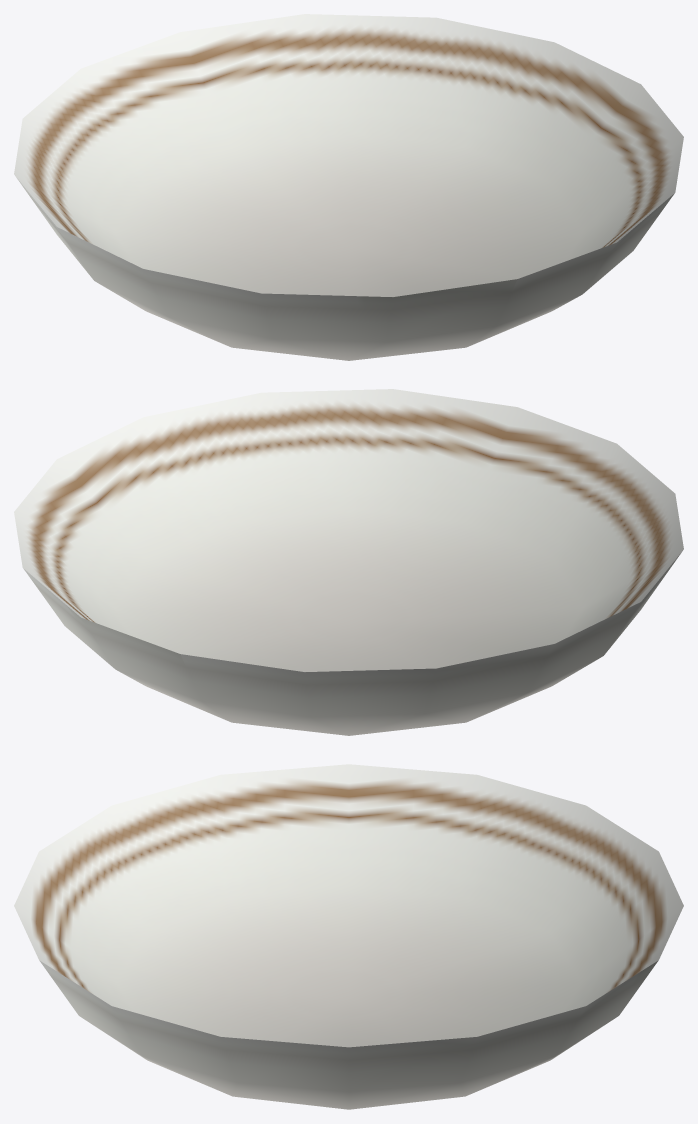
File: KR_Round_tray_01_03.fbx
3 renders of one model, top to bottom at view 1: azimuth 30°, elevation 25°; view 2: azimuth 150°, elevation 25°; view 3: azimuth 270°, elevation 25°, orthographic.
Visible parts, largest first — view 1: kr_round_tray_01_03; view 2: kr_round_tray_01_03; view 3: kr_round_tray_01_03.
Part boxes in pixels (x1=…): kr_round_tray_01_03: x1=14, y1=14, x2=683, y2=360; kr_round_tray_01_03: x1=14, y1=389, x2=683, y2=735; kr_round_tray_01_03: x1=14, y1=764, x2=683, y2=1109.
Bounding box in the file's own units: 23 × 4 × 23.
